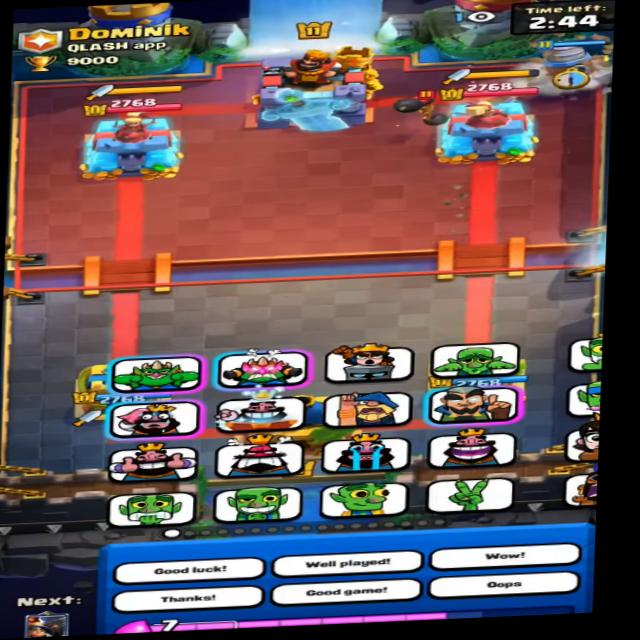bomber: (395, 80, 452, 126)
